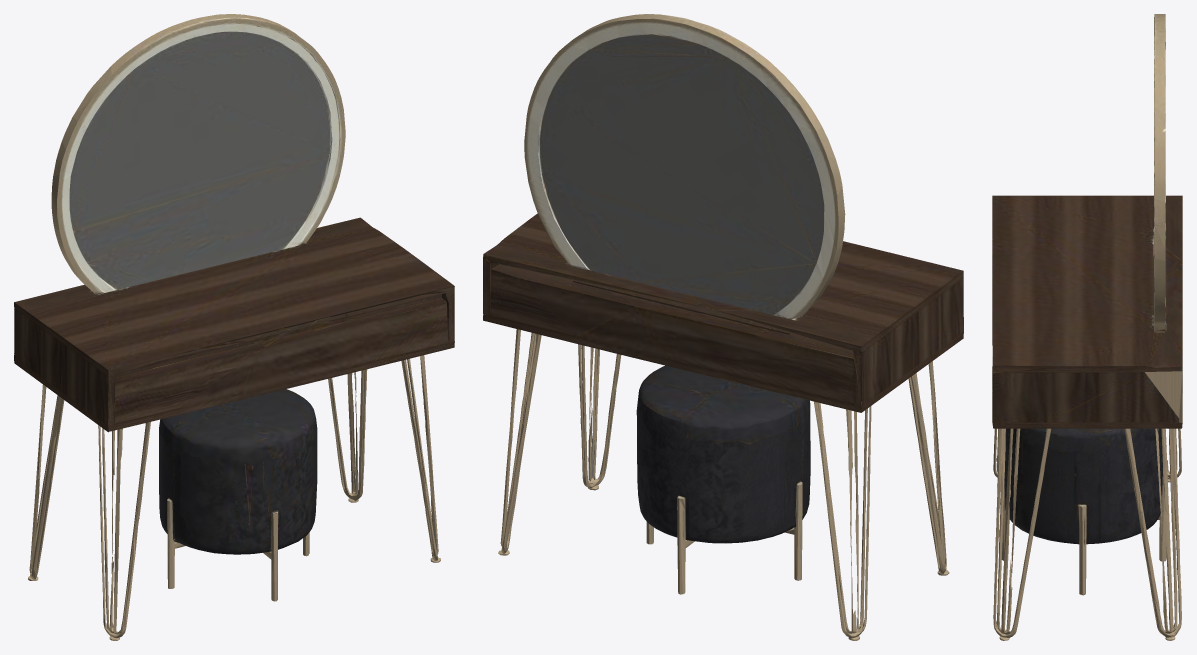
File: suite-vanity.glb
3 views of the same model, side by side, from view 1: azimuth 30°, elevation 25°; view 2: azimuth 150°, elevation 25°; view 3: azimuth 270°, elevation 25° (orthographic). The views are drawn at different scales.
Visible parts, largest first — view 1: output_unwrapped; view 2: output_unwrapped; view 3: output_unwrapped.
Part boxes in pixels (box(x1,y1,x2,y2)): output_unwrapped: box(14, 14, 454, 640); output_unwrapped: box(483, 14, 963, 640); output_unwrapped: box(992, 14, 1182, 640).
Bounding box in the file's own units: 1.32 × 1.9 × 0.6207.
1 material, 1 textured.
